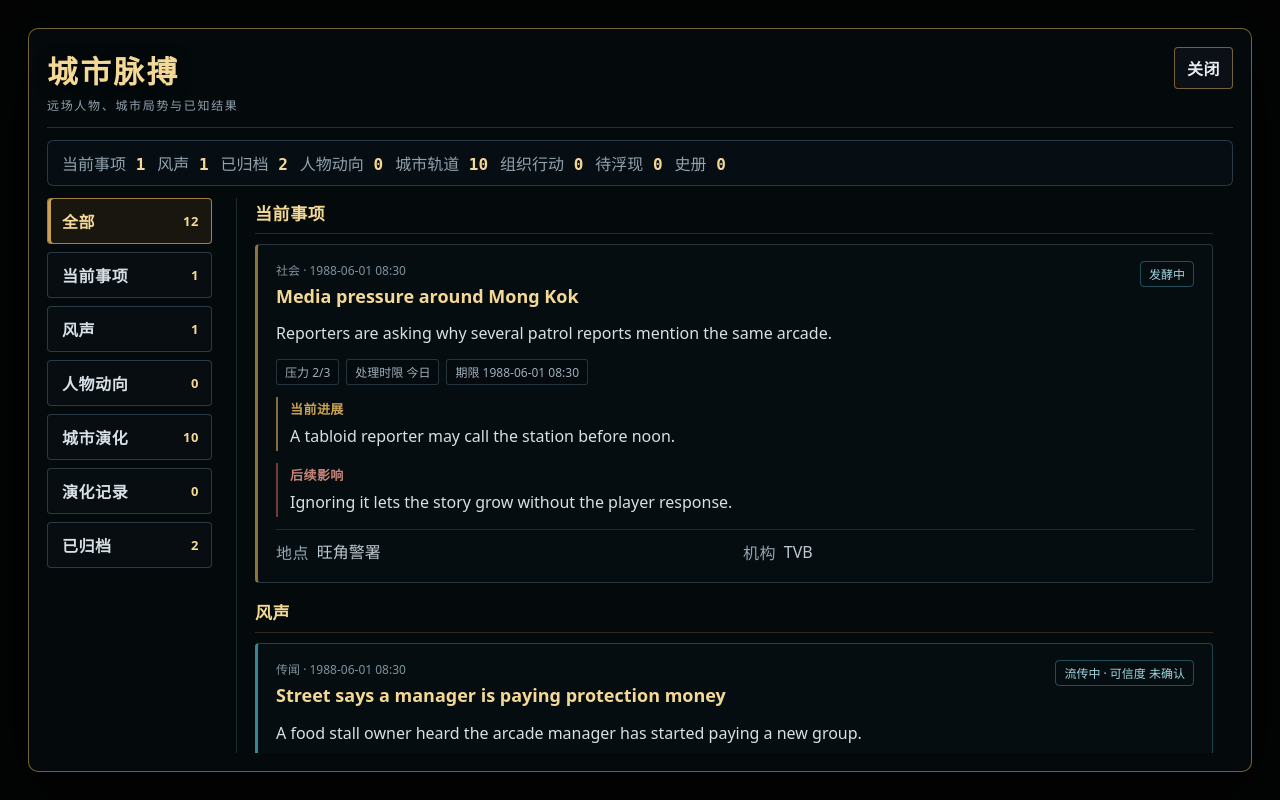
Test case: DynamicMattersPanelModal › keeps archived entries behind an archived filter tab
Step 1. Click the button "已归档 2" → (130, 545), box [47,522,212,568]
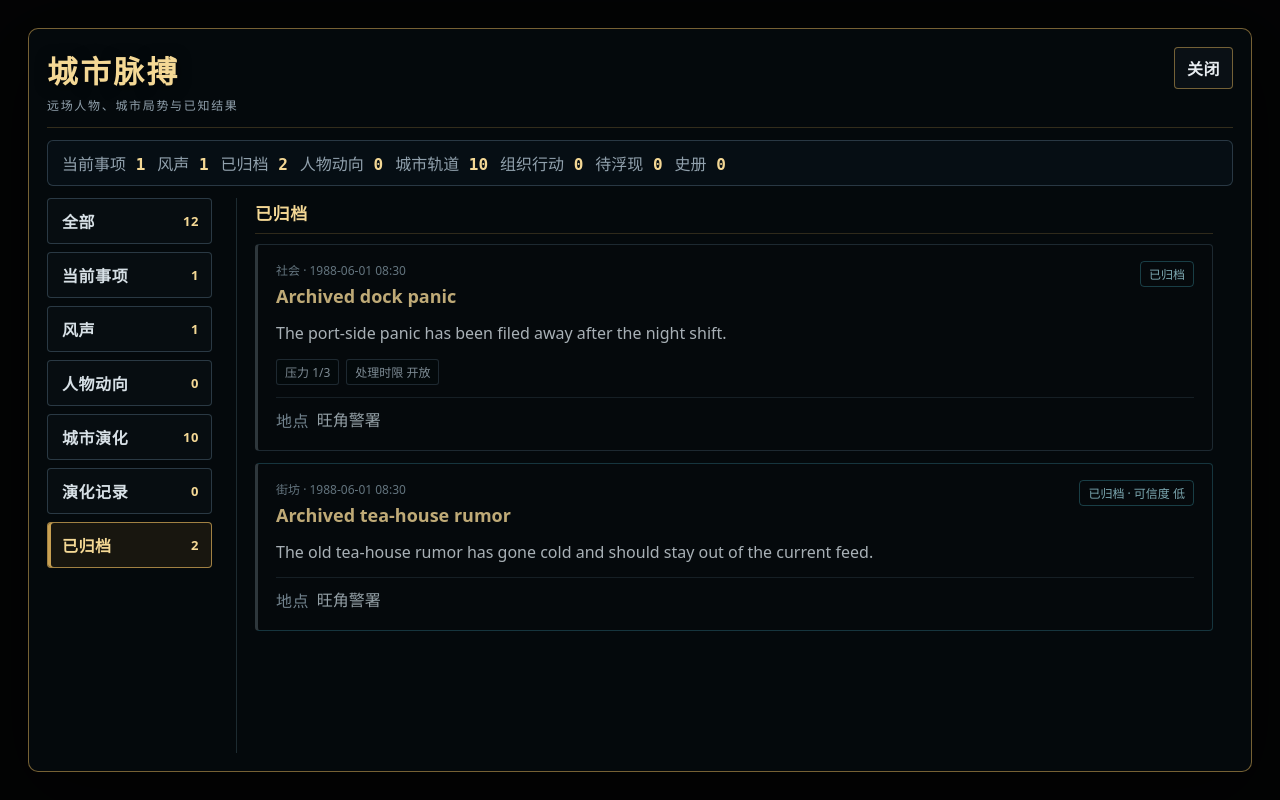
Expected: the dialog shows "Archived dock panic", [276,284,456,308]
Expected: the dialog shows "Archived tea-house rumor", [276,503,511,527]
Expected: the dialog no longer shows "Media pressure around Mong Kok"
